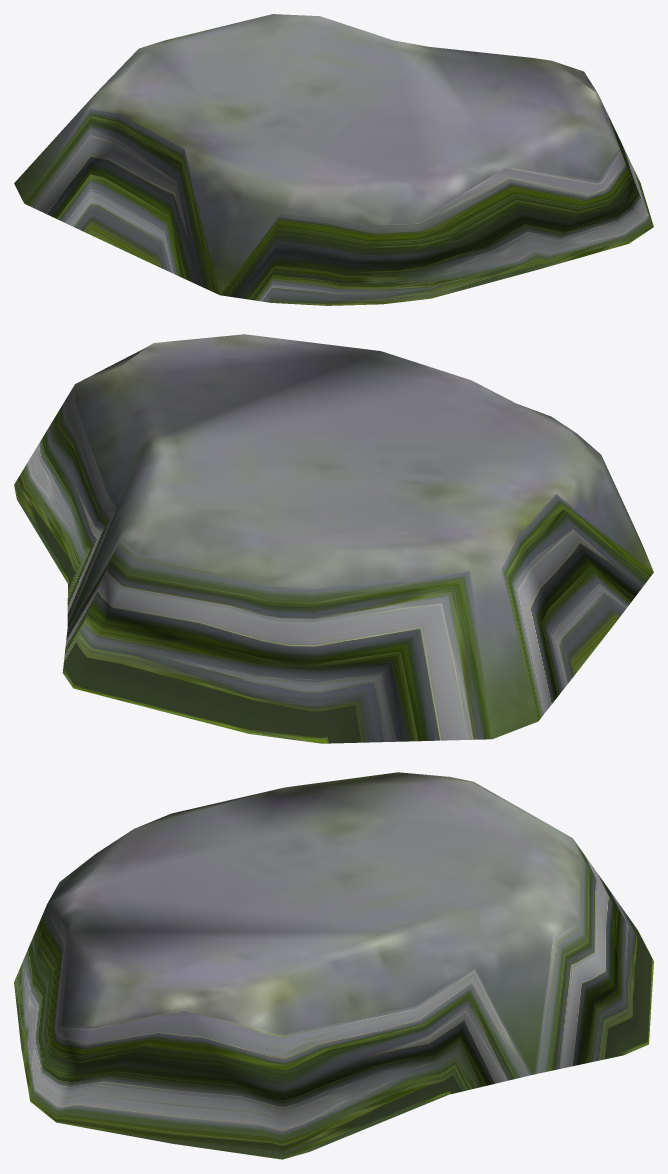
The model's file is Pebble_Round_2.glb.
3 renders of one model, top to bottom at view 1: azimuth 30°, elevation 25°; view 2: azimuth 150°, elevation 25°; view 3: azimuth 270°, elevation 25°, orthographic. The views are drawn at different scales.
Parts seen in each view (by area): view 1: Pebble_Round_2; view 2: Pebble_Round_2; view 3: Pebble_Round_2.
Boxes of the visible parts, box(x1,y1,x2,y2) form: Pebble_Round_2: box(14, 14, 653, 305); Pebble_Round_2: box(14, 334, 653, 743); Pebble_Round_2: box(14, 772, 653, 1159).
Bounding box in the file's own units: 0.4495 × 0.0942 × 0.4111.
1 material, 1 textured.
